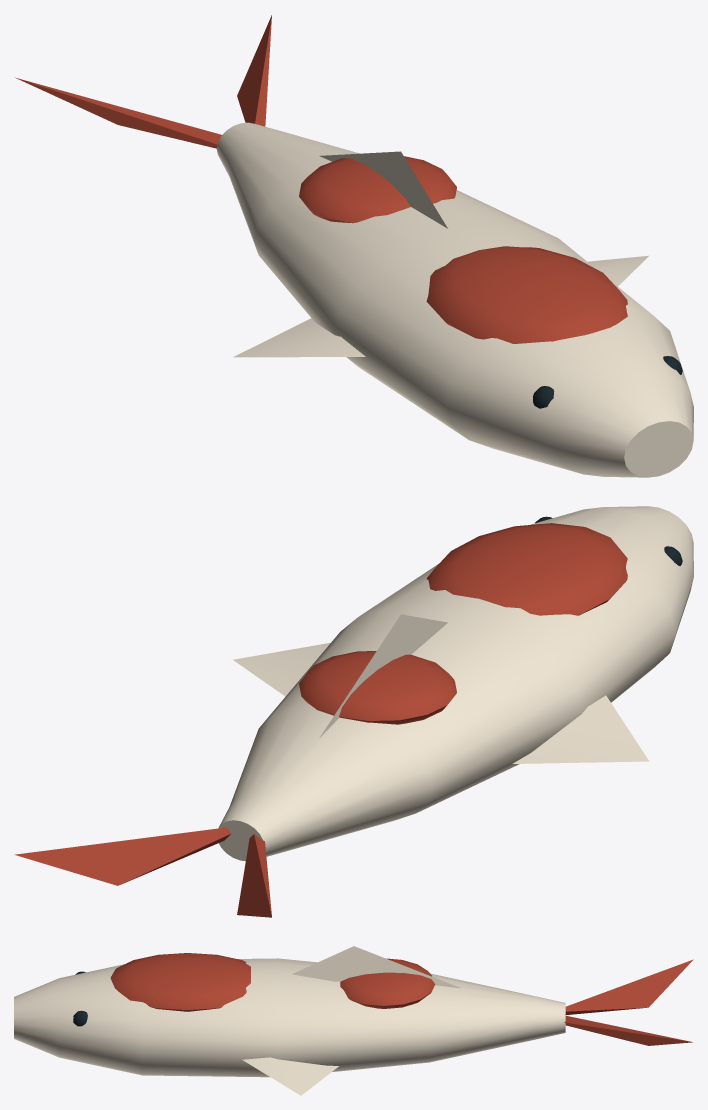
File: pond_koi.glb
The picture shows the model from 3 angles, top to bottom: view 1: azimuth 30°, elevation 25°; view 2: azimuth 150°, elevation 25°; view 3: azimuth 270°, elevation 25°; orthographic projection. The views are drawn at different scales.
Parts seen in each view (by area): view 1: Detail.pond_koi.Ivory, Detail.pond_koi.Red; view 2: Detail.pond_koi.Ivory, Detail.pond_koi.Red; view 3: Detail.pond_koi.Ivory, Detail.pond_koi.Red.
Part boxes in pixels (x1,y1,x2,y2): Detail.pond_koi.Ivory: (216,122,693,477); Detail.pond_koi.Red: (15,15,627,343); Detail.pond_koi.Ivory: (218,506,693,861); Detail.pond_koi.Red: (14,523,627,917); Detail.pond_koi.Ivory: (14,946,565,1095); Detail.pond_koi.Red: (110,953,693,1045).
Size of the model in its own units: 0.42 by 0.17 by 0.9.
